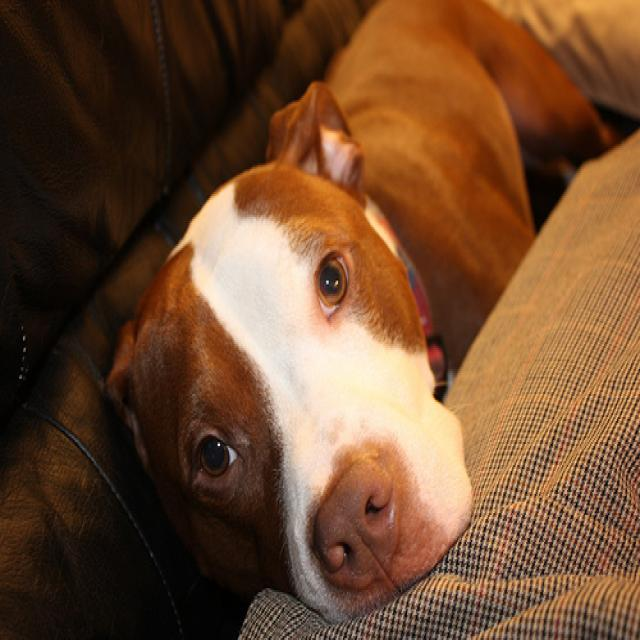dog-american_pit_bull_terrier: (100, 2, 630, 632)
